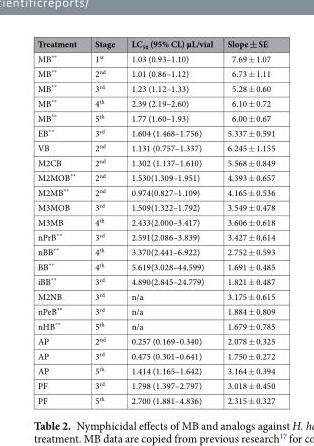table: (36, 36, 274, 406)
table column: (122, 36, 219, 406), (219, 36, 274, 406), (36, 36, 85, 406), (85, 36, 122, 406)
table column header: (36, 36, 274, 51)
table row: (36, 36, 274, 51), (36, 65, 274, 80), (36, 80, 274, 95), (36, 95, 274, 110), (36, 110, 274, 125), (36, 125, 274, 140), (36, 154, 274, 169), (36, 169, 274, 184), (36, 184, 274, 199), (36, 199, 274, 214), (36, 214, 274, 229), (36, 243, 274, 258), (36, 258, 274, 273), (36, 273, 274, 288), (36, 288, 274, 303), (36, 303, 274, 318), (36, 318, 274, 333), (36, 333, 274, 348), (36, 362, 274, 377), (36, 377, 274, 392), (36, 51, 274, 65), (36, 140, 274, 154), (36, 229, 274, 243), (36, 348, 274, 362), (36, 392, 274, 406)
